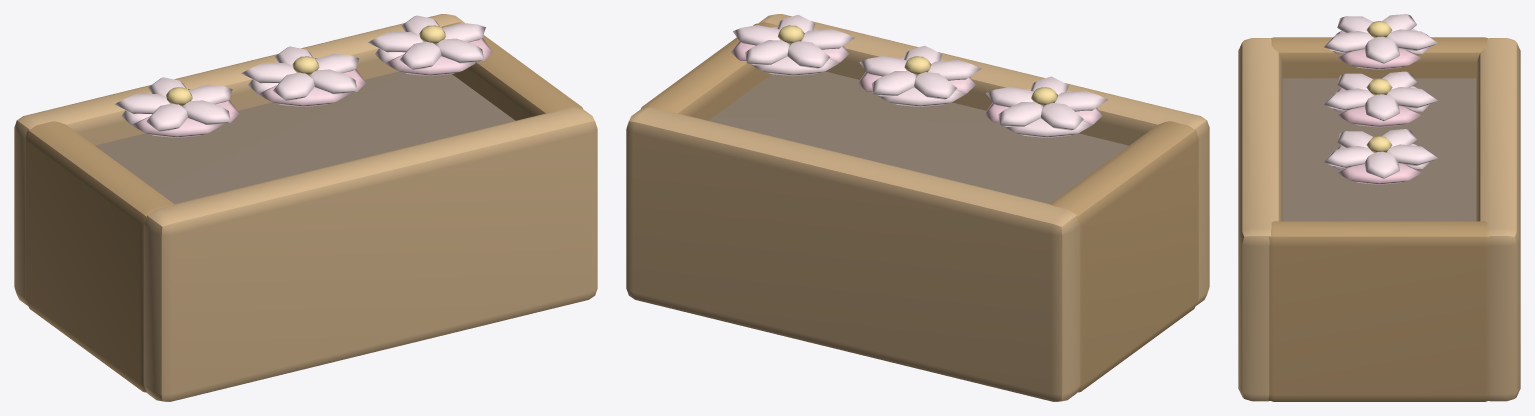
Rendered from planter_spring_v1.glb.
3 renders of one model, left to right at view 1: azimuth 30°, elevation 25°; view 2: azimuth 150°, elevation 25°; view 3: azimuth 270°, elevation 25°, orthographic. The views are drawn at different scales.
Visible parts, largest first — view 1: Base_PlanterWall (×2), Base_PlanterEnd (×2), Base_Soil, Season_SurfacePetals, Season_LeafSprig (×3), Season_SurfaceFlowerCenters; view 2: Base_PlanterWall (×2), Base_PlanterEnd (×2), Base_Soil, Season_SurfacePetals, Season_LeafSprig (×3), Season_SurfaceFlowerCenters; view 3: Base_PlanterEnd (×2), Base_PlanterWall (×2), Base_Soil, Season_SurfacePetals, Season_LeafSprig (×2), Season_SurfaceFlowerCenters.
Part boxes in pixels (x1,y1,x2,y2): Base_PlanterWall (×2): [14, 14, 597, 401]; Base_PlanterEnd (×2): [25, 22, 582, 392]; Base_Soil: [95, 71, 515, 203]; Season_SurfacePetals: [114, 15, 485, 131]; Season_LeafSprig (×3): [121, 27, 492, 137]; Season_SurfaceFlowerCenters: [166, 25, 445, 105]; Base_PlanterWall (×2): [626, 14, 1209, 401]; Base_PlanterEnd (×2): [641, 22, 1198, 392]; Base_Soil: [708, 71, 1128, 203]; Season_SurfacePetals: [733, 14, 1107, 130]; Season_LeafSprig (×3): [731, 27, 1102, 137]; Season_SurfaceFlowerCenters: [778, 25, 1057, 106]; Base_PlanterEnd (×2): [1268, 37, 1490, 401]; Base_PlanterWall (×2): [1238, 38, 1520, 401]; Base_Soil: [1282, 78, 1476, 221]; Season_SurfacePetals: [1324, 14, 1437, 178]; Season_LeafSprig (×2): [1337, 28, 1429, 184]; Season_SurfaceFlowerCenters: [1366, 21, 1392, 152].
Size of the model in its own units: 1.41 by 0.7325 by 0.83.
